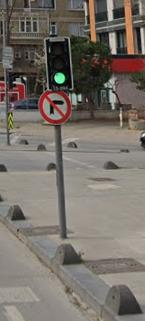greenlight: (46, 36, 74, 88)
rightturnsareforbidden: (38, 88, 72, 125)
